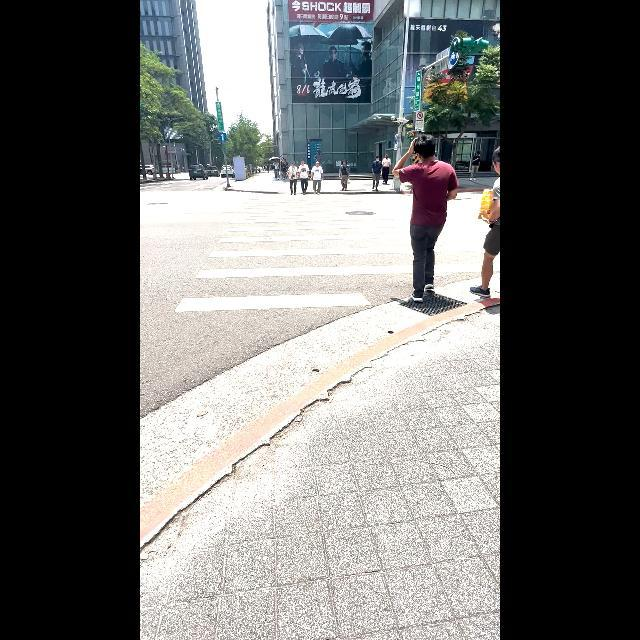sidewalk: (176, 194, 477, 310)
